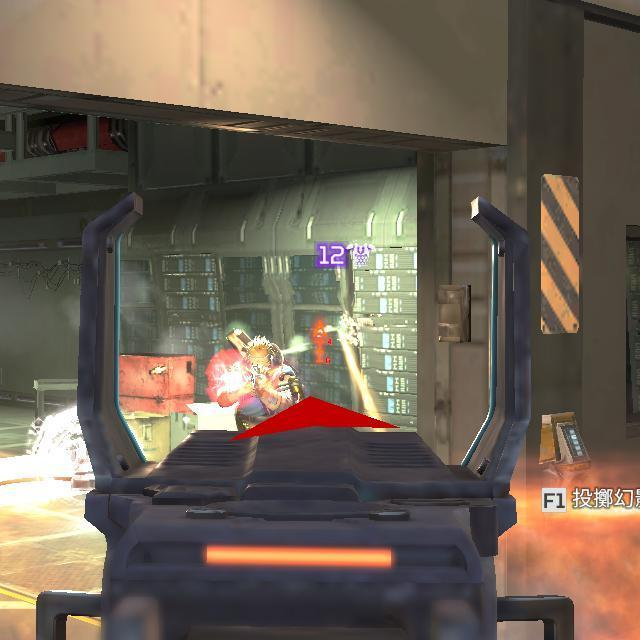avatar: (222, 335, 303, 432)
object: (206, 346, 255, 411)
